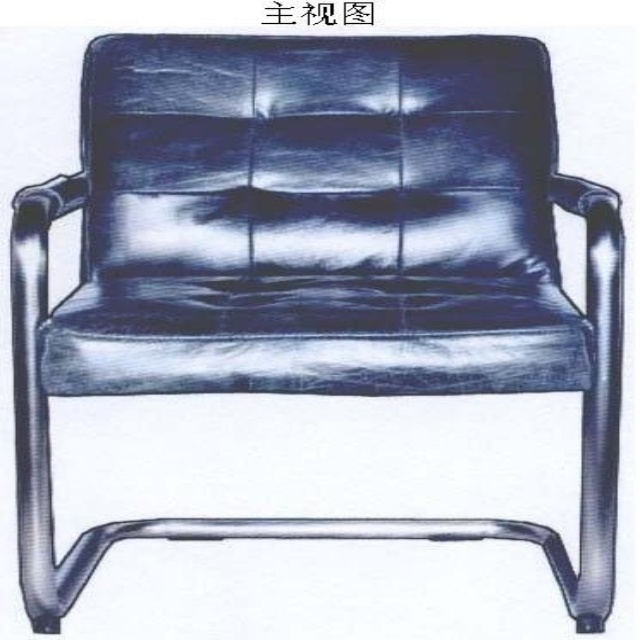obstacle: (10, 34, 621, 632)
